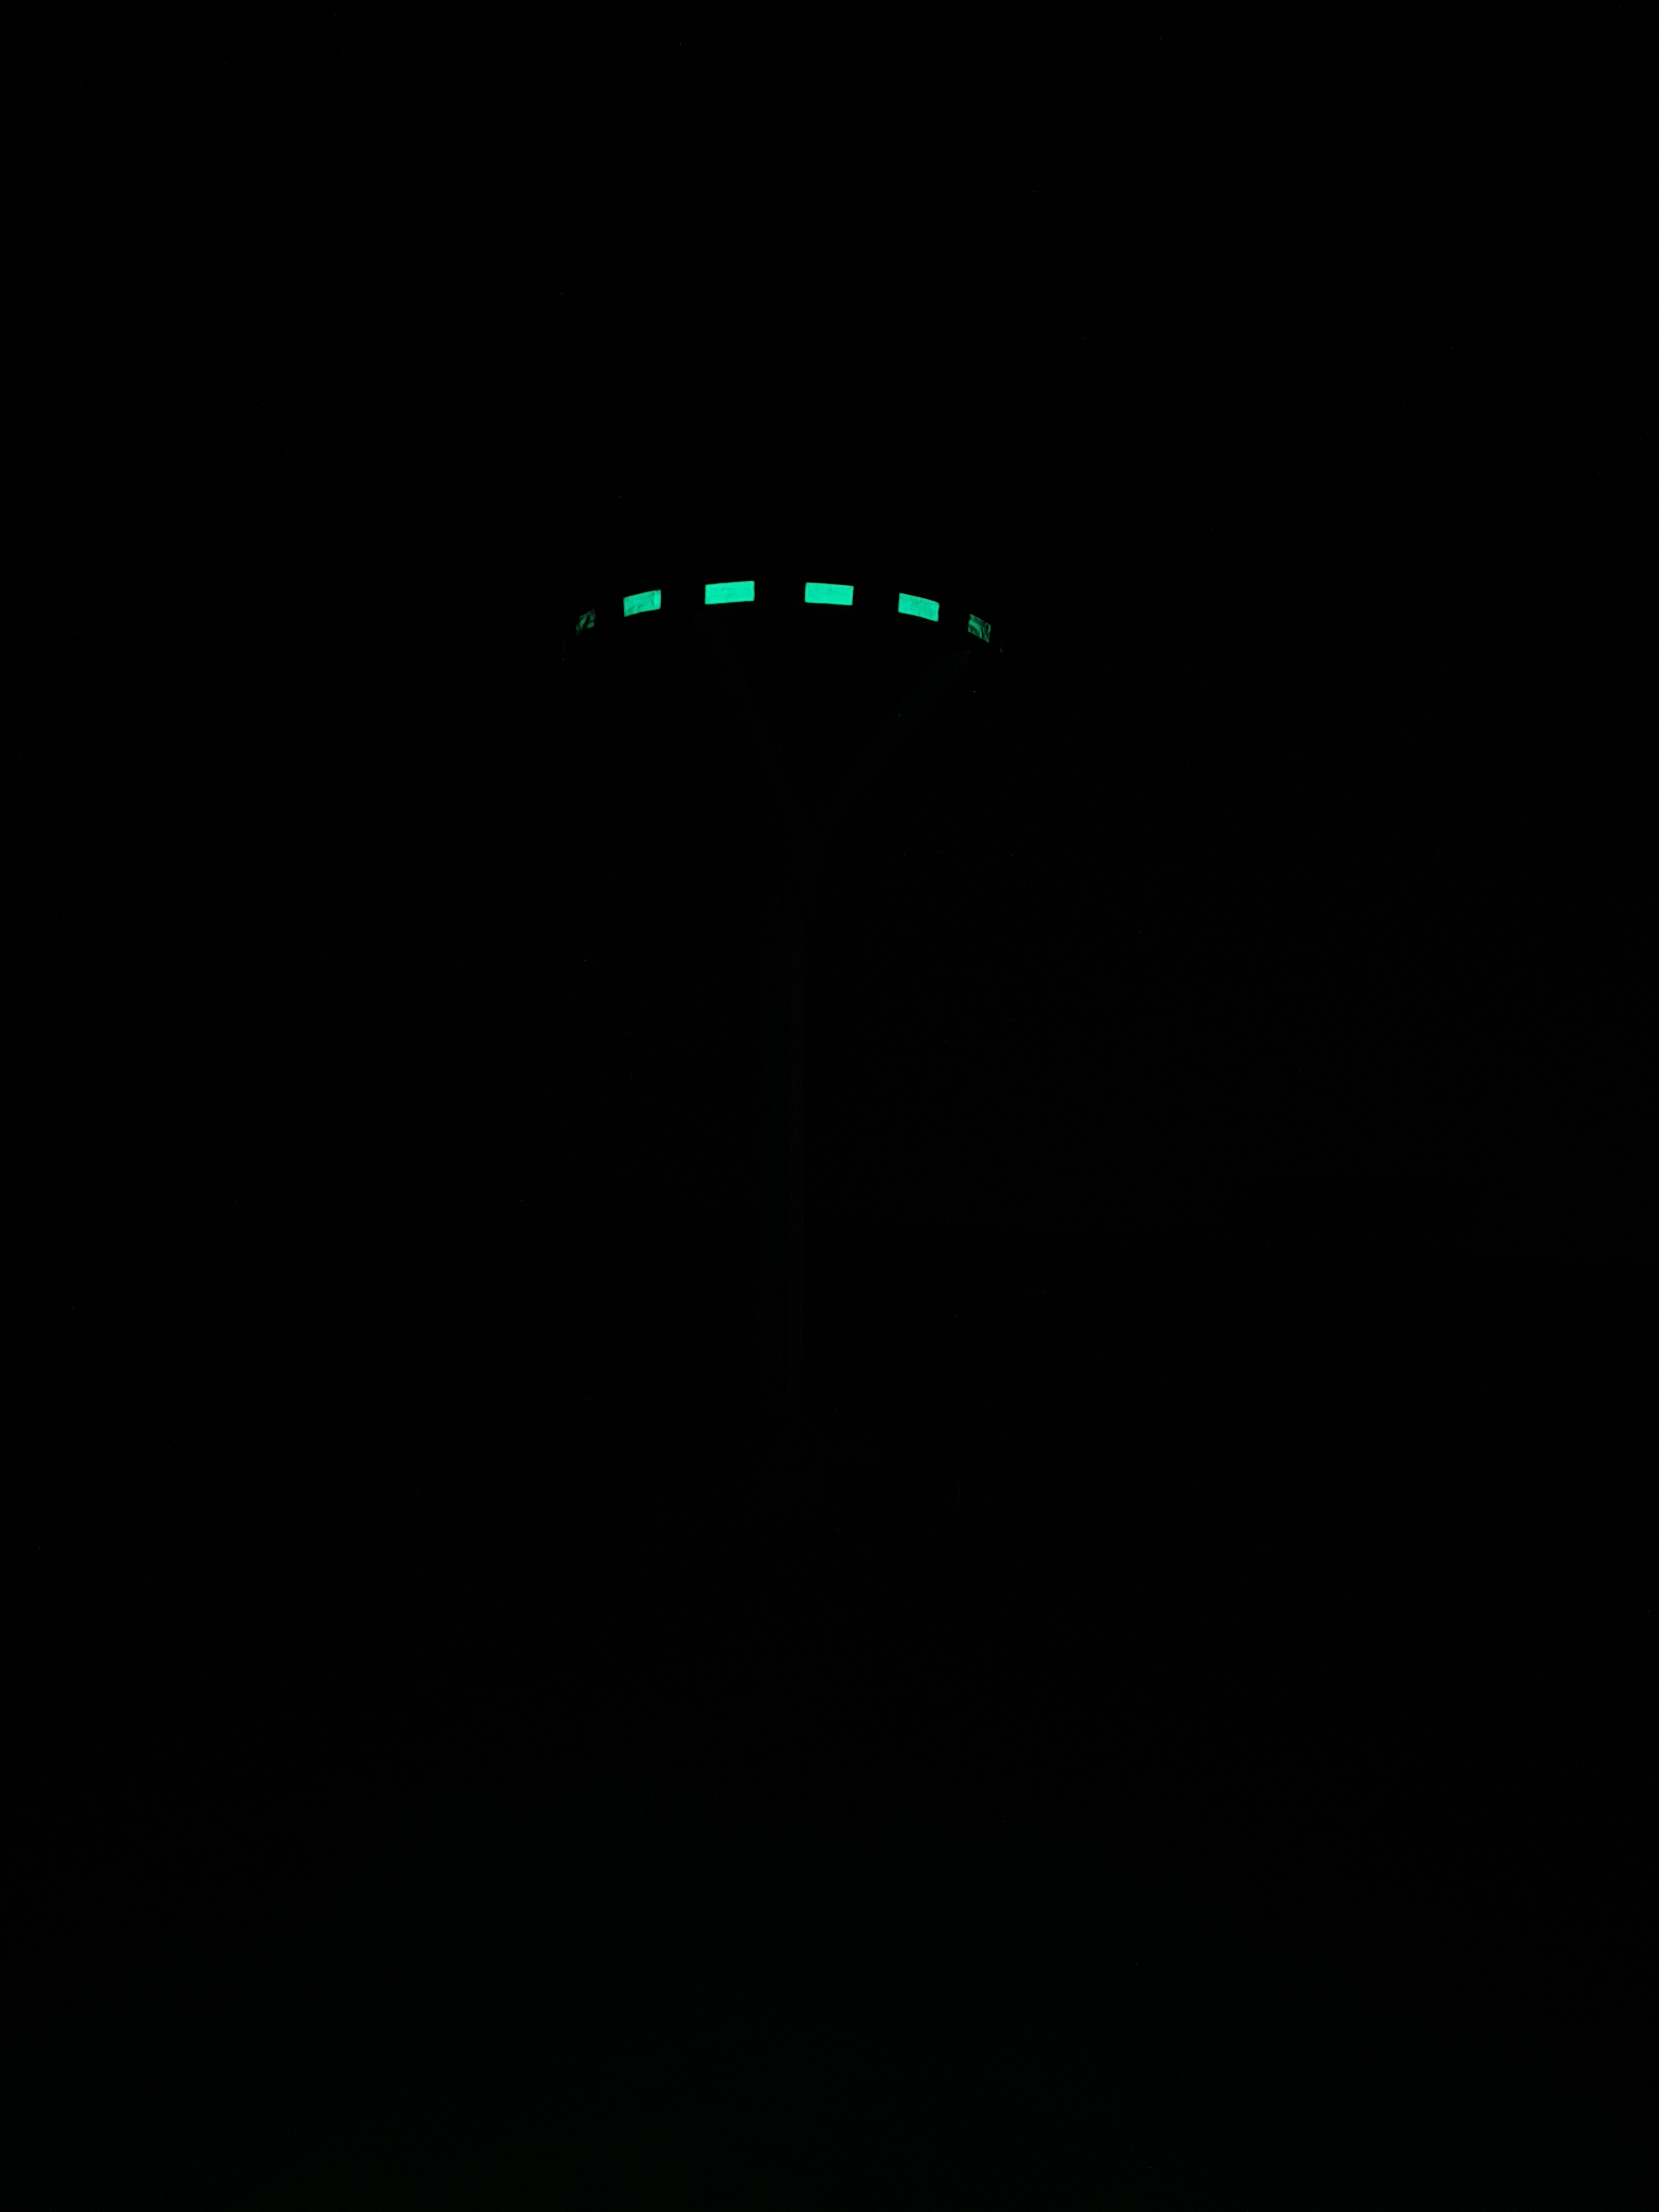hoop: (580, 571, 993, 650)
